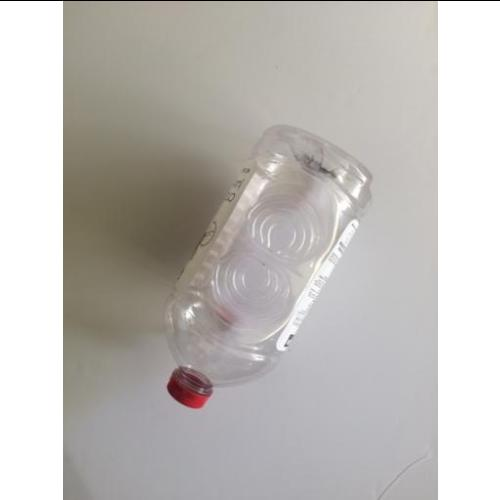plastic: (168, 124, 373, 410)
